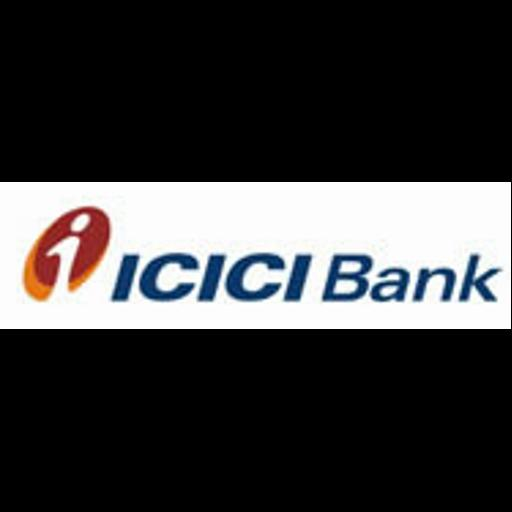ICICI Bank Limited: (0, 182, 511, 329)
